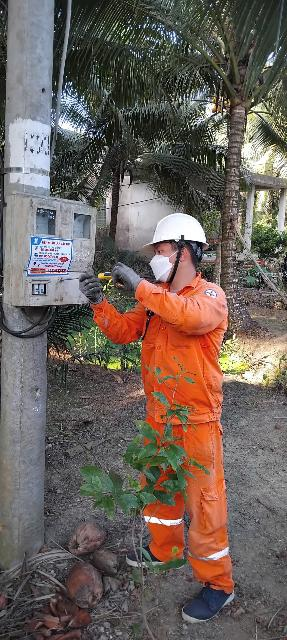gloves: (65, 264, 104, 313), (107, 262, 142, 302)
helmet: (140, 212, 218, 262)
shoes: (170, 578, 242, 633), (117, 539, 187, 575)
